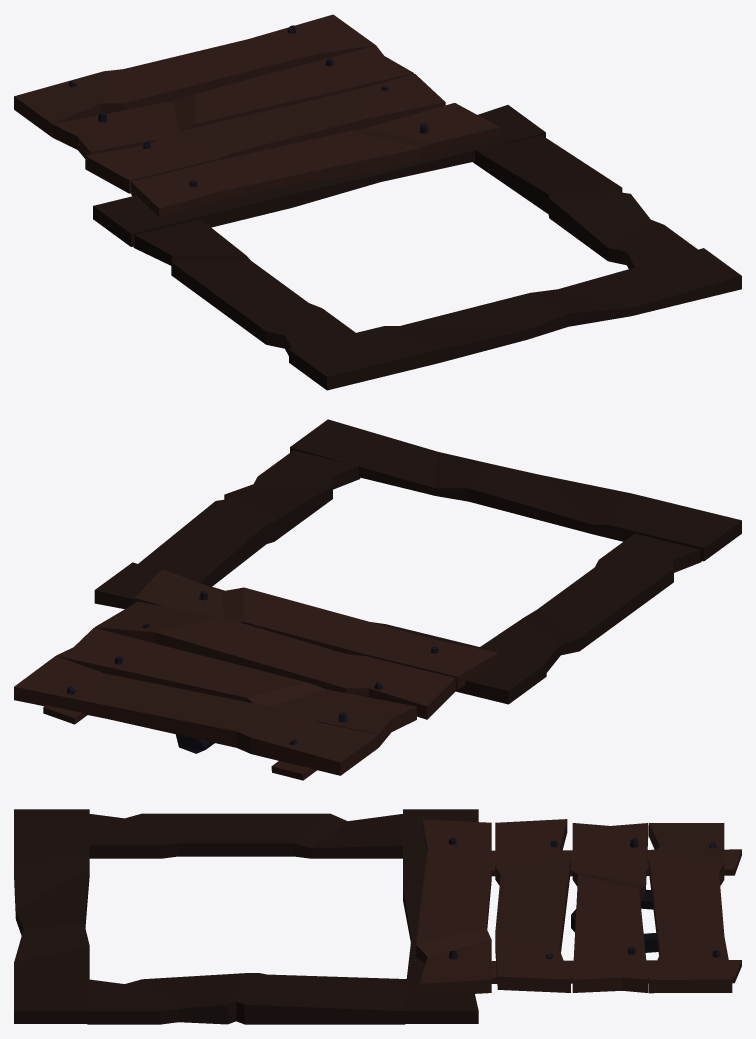
The picture shows the model from 3 angles, top to bottom: view 1: azimuth 30°, elevation 25°; view 2: azimuth 150°, elevation 25°; view 3: azimuth 270°, elevation 25°; orthographic projection.
Parts seen in each view (by area): view 1: Trapdoor_open_Cylinder.008; view 2: Trapdoor_open_Cylinder.008; view 3: Trapdoor_open_Cylinder.008.
Part boxes in pixels (bbox=[...]): Trapdoor_open_Cylinder.008: bbox=[14, 14, 741, 390]; Trapdoor_open_Cylinder.008: bbox=[14, 419, 741, 780]; Trapdoor_open_Cylinder.008: bbox=[14, 809, 741, 1024].
Bounding box in the file's own units: 1.74 × 0.2038 × 2.66.
